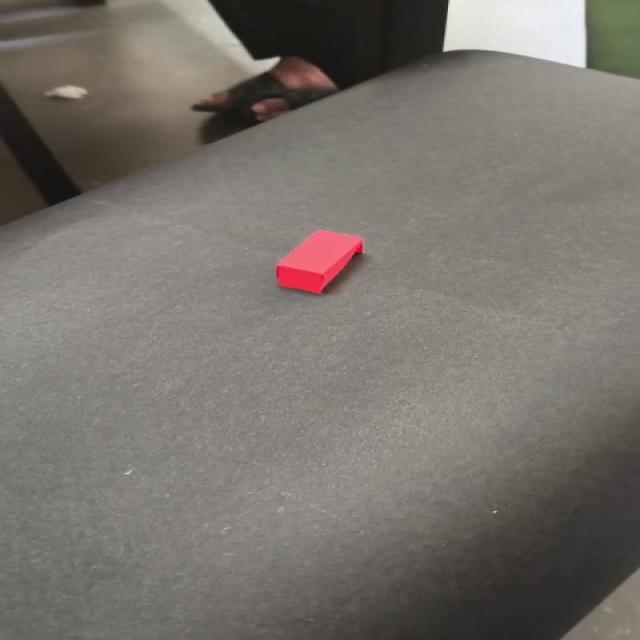red block: (274, 228, 366, 294)
